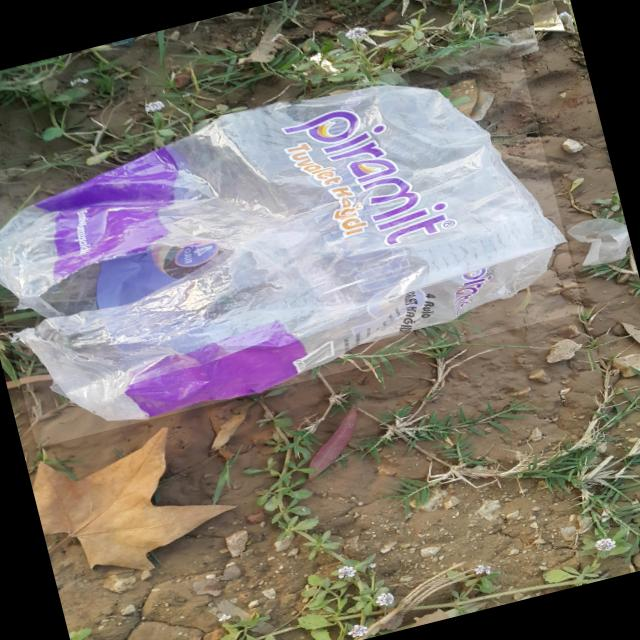Other plastic: (530, 0, 574, 33), (308, 52, 346, 77)
Plastic film: (0, 85, 566, 421), (407, 25, 543, 78), (567, 218, 630, 265)
